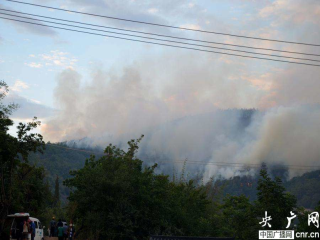smoke: (193, 95, 314, 182), (108, 125, 199, 186), (34, 95, 110, 154)
